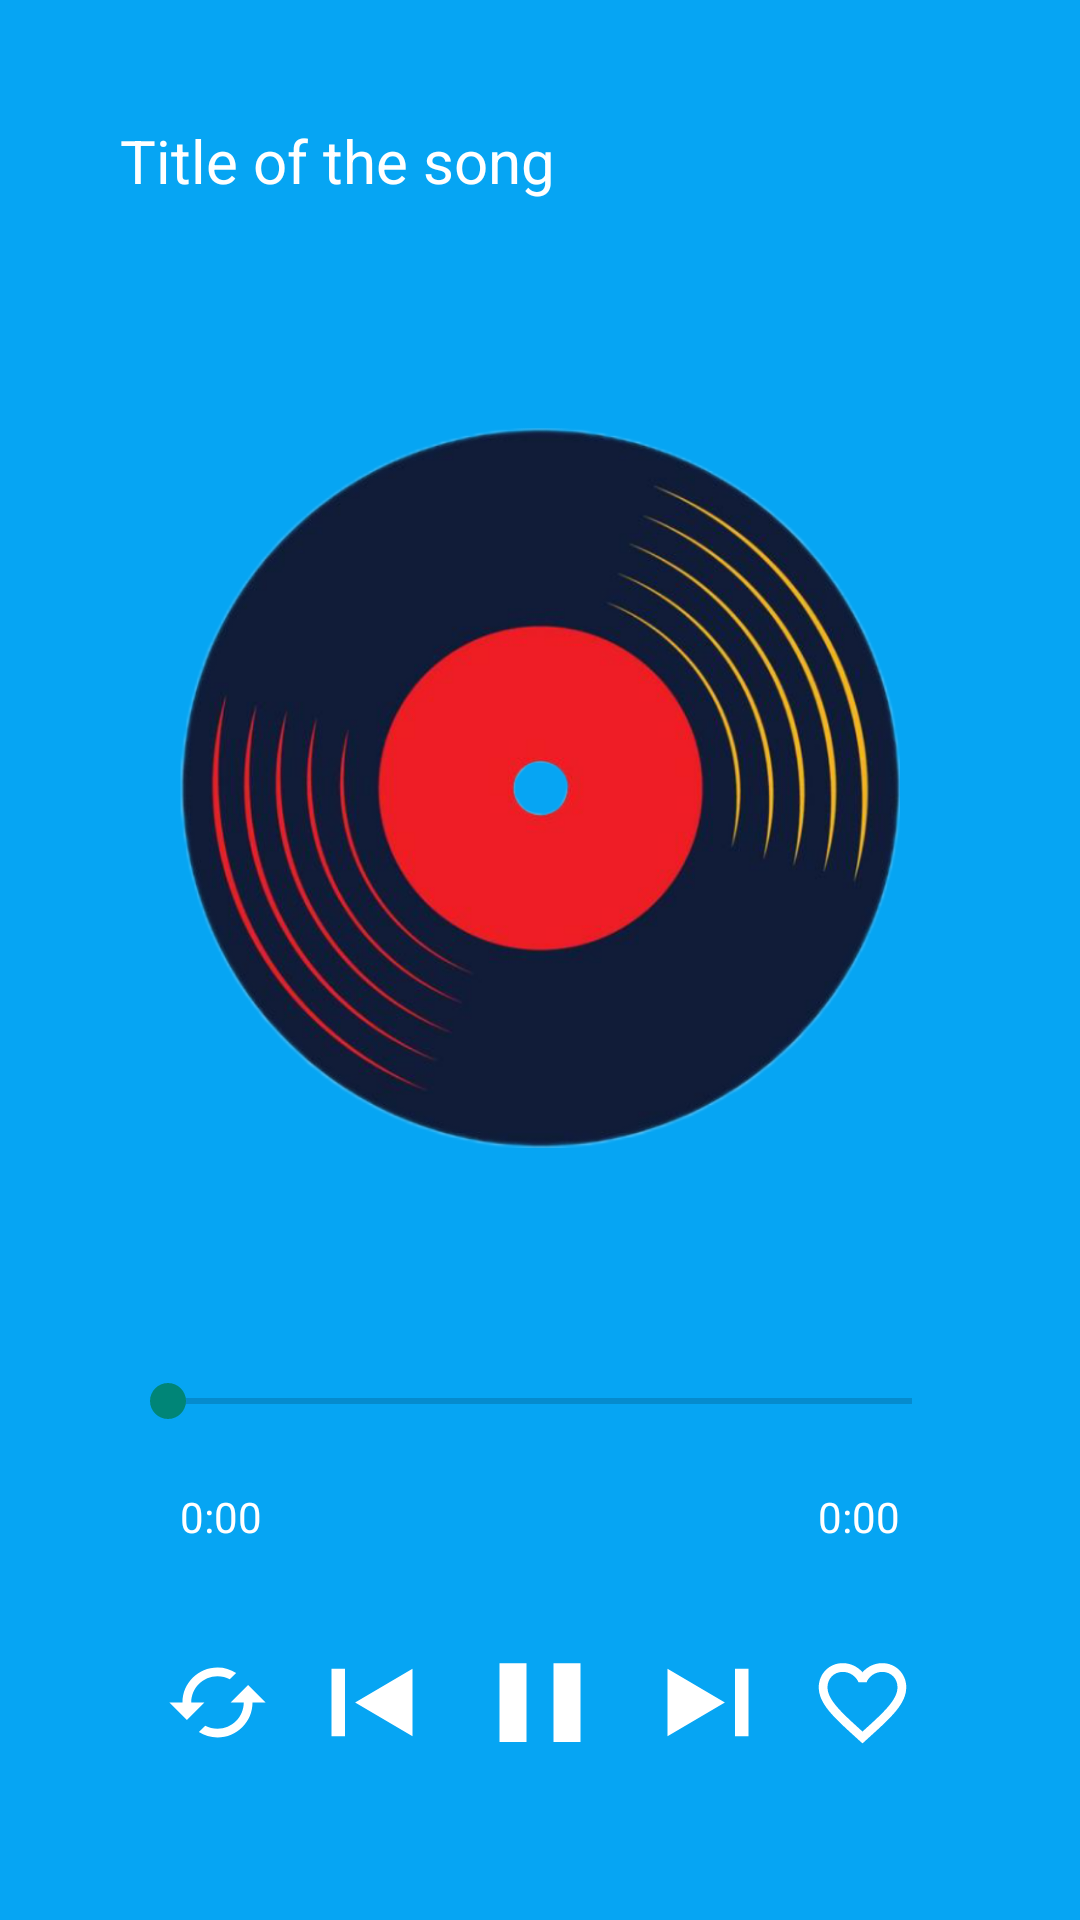

Icon click points for this 1080 × 1920 phone screenshot, format (x=x, y=y):
continues: (x=217, y=1702)
favorite unchecked: (x=862, y=1703)
pause: (x=540, y=1702)
play next: (x=708, y=1702)
play previous: (x=372, y=1702)
